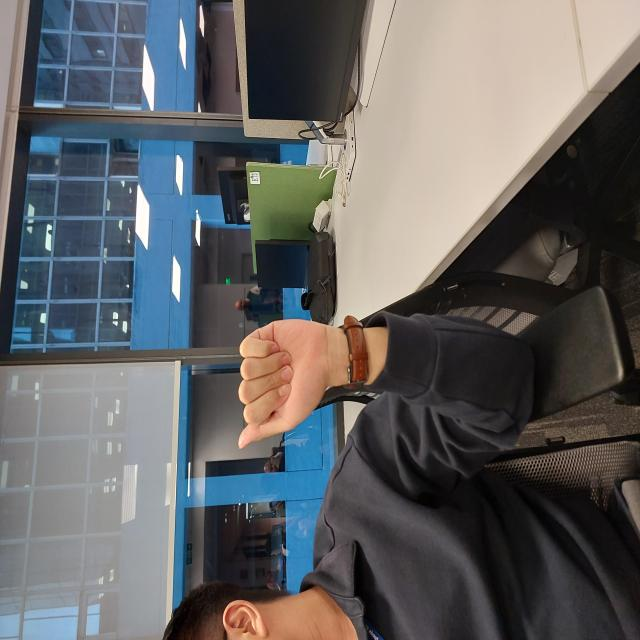A: (189, 235, 324, 324)
